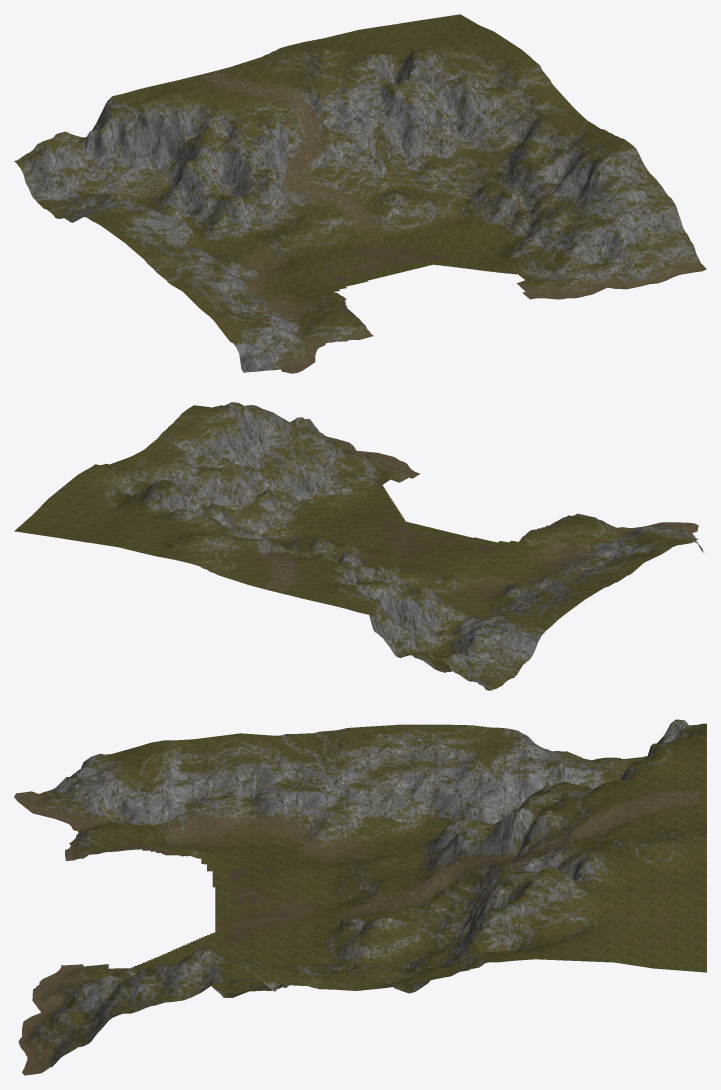
Rendered from terrain_far_01.gltf.
3 views of the same model, one above another, from view 1: azimuth 30°, elevation 25°; view 2: azimuth 150°, elevation 25°; view 3: azimuth 270°, elevation 25° (orthographic). The views are drawn at different scales.
Visible parts, largest first — view 1: terrain_far_01; view 2: terrain_far_01; view 3: terrain_far_01.
Part boxes in pixels (x1,y1,x2,y2): terrain_far_01: (14, 14, 706, 373); terrain_far_01: (14, 402, 703, 690); terrain_far_01: (14, 719, 706, 1075).
Size of the model in its own units: 500 by 117 by 486.
